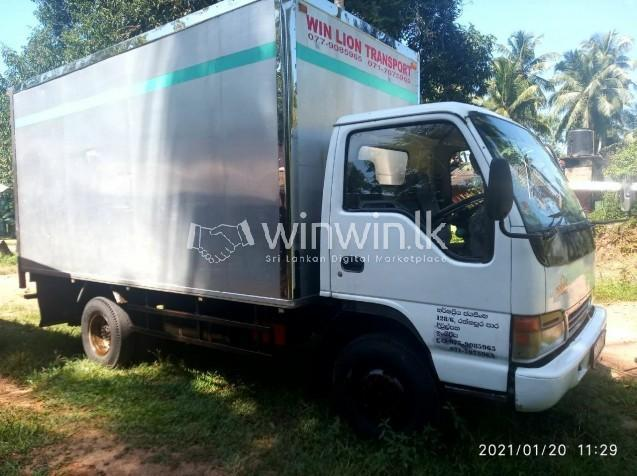truck: (6, 1, 604, 427)
